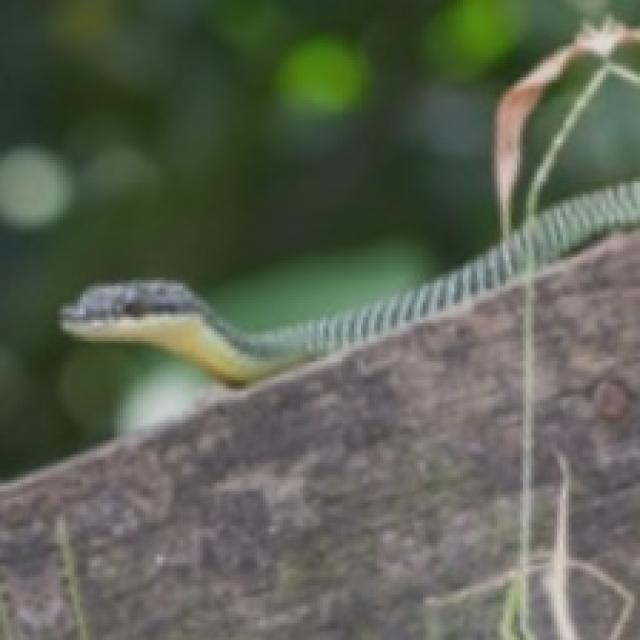paradise tree snake: (60, 180, 637, 383)
